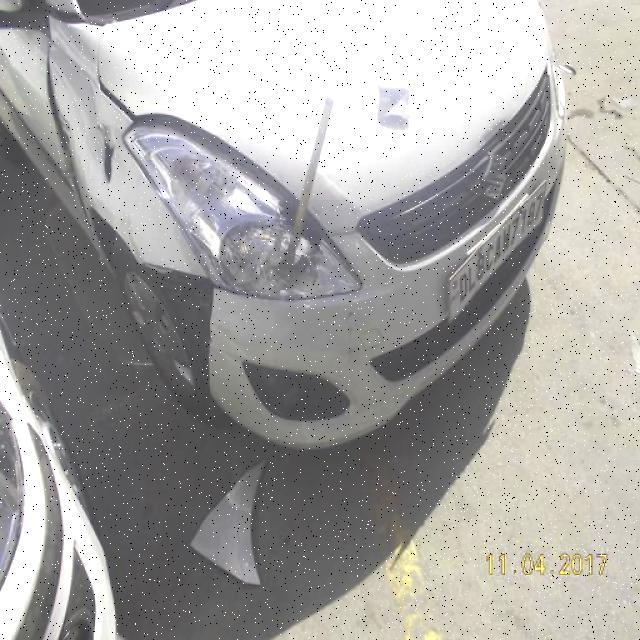car damage: (137, 113, 326, 251), (144, 266, 215, 396), (47, 49, 90, 234), (375, 78, 415, 140), (94, 117, 118, 188)
